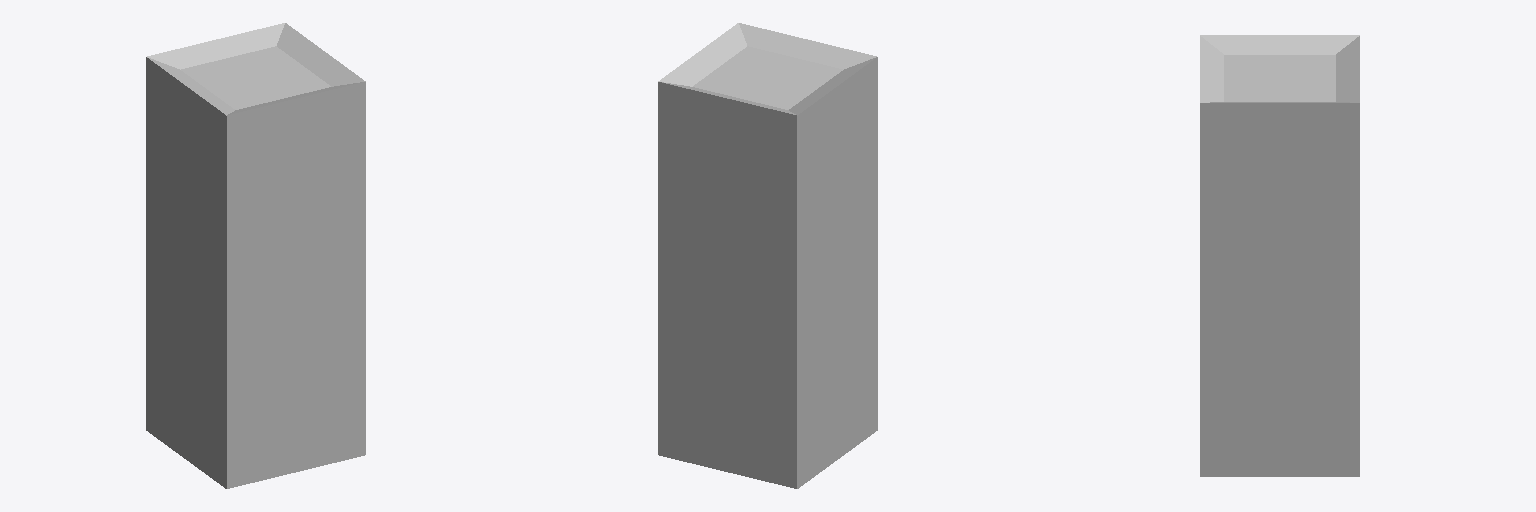
The model's file is stockade_ordinary.obj.
3 renders of one model, left to right at view 1: azimuth 30°, elevation 25°; view 2: azimuth 150°, elevation 25°; view 3: azimuth 270°, elevation 25°, orthographic.
Parts seen in each view (by area): view 1: cuboid; view 2: cuboid; view 3: cuboid.
Boxes of the visible parts, x1=… form: cuboid: x1=146, y1=23, x2=365, y2=488; cuboid: x1=658, y1=23, x2=877, y2=488; cuboid: x1=1200, y1=35, x2=1359, y2=476.
Size of the model in its own units: 1 by 2.56 by 1.